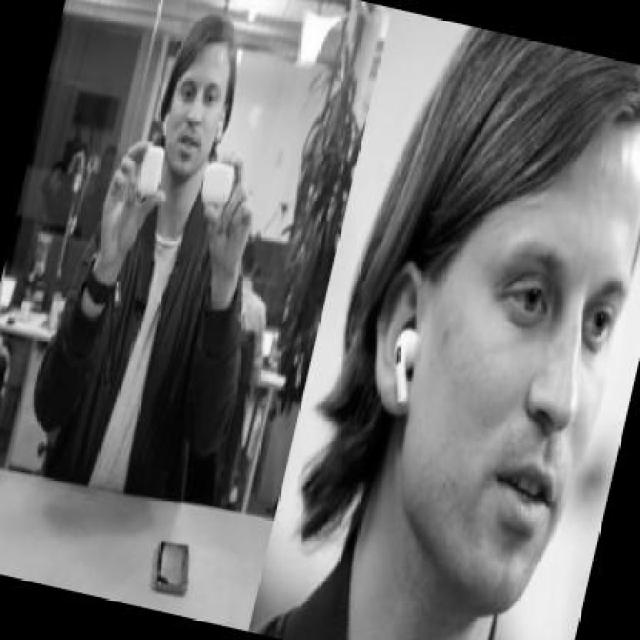earphone: (384, 311, 430, 414), (210, 109, 241, 147), (159, 104, 174, 142)
